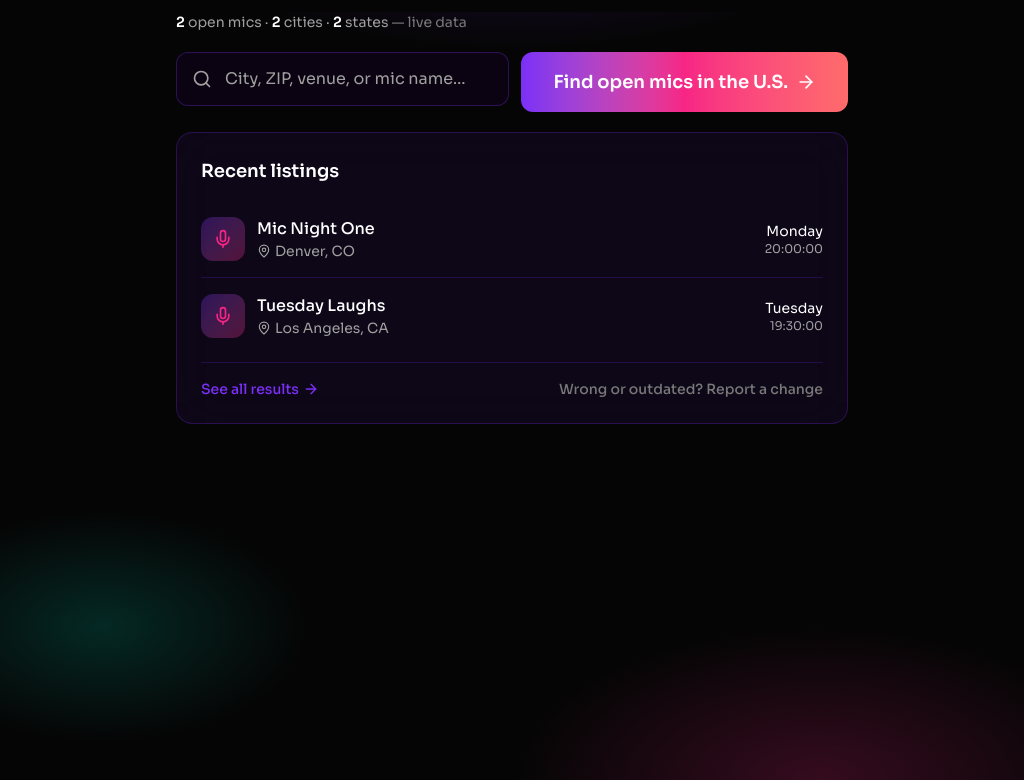
Scenario: HomeMicFinder › filters preview rows when searching
The image size is (1024, 780).
Check: the text "Tuesday Laughs" is shown, box top-left (257, 294), bottom-right (389, 318)
Type "Denver" into the field named "Find open mics anywhere in the United States".
click(343, 79); type("Denver")  # box top-left (176, 52), bottom-right (509, 106)
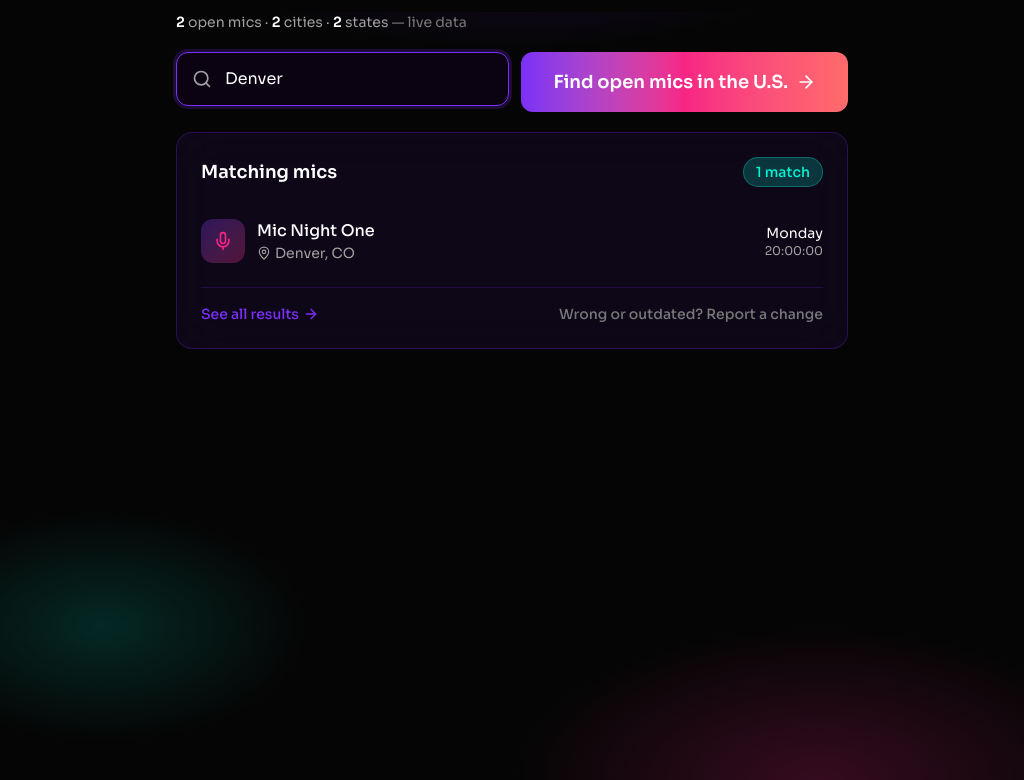
Check: the text "Mic Night One" is shown, box top-left (257, 219), bottom-right (375, 243)
Check: the text "Tuesday Laughs" is gone
Check: the text "1 match" is shown, box top-left (743, 157), bottom-right (823, 187)
